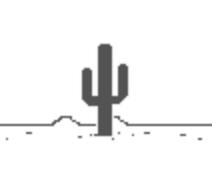cactus: (78, 40, 131, 139)
